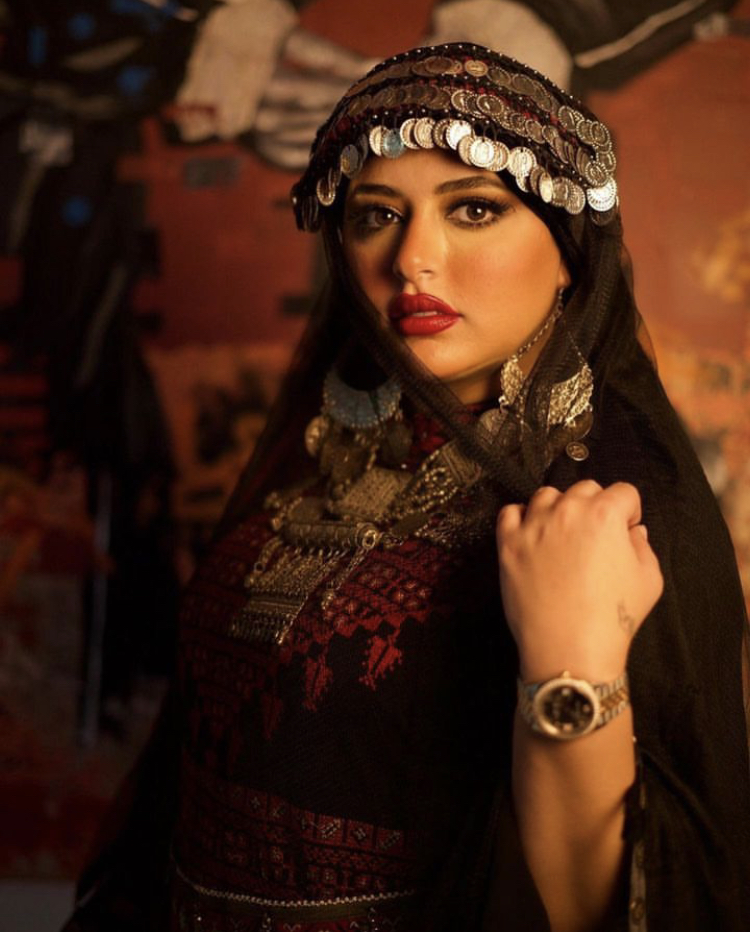Saudi_Founding_Day: (56, 36, 750, 932)
